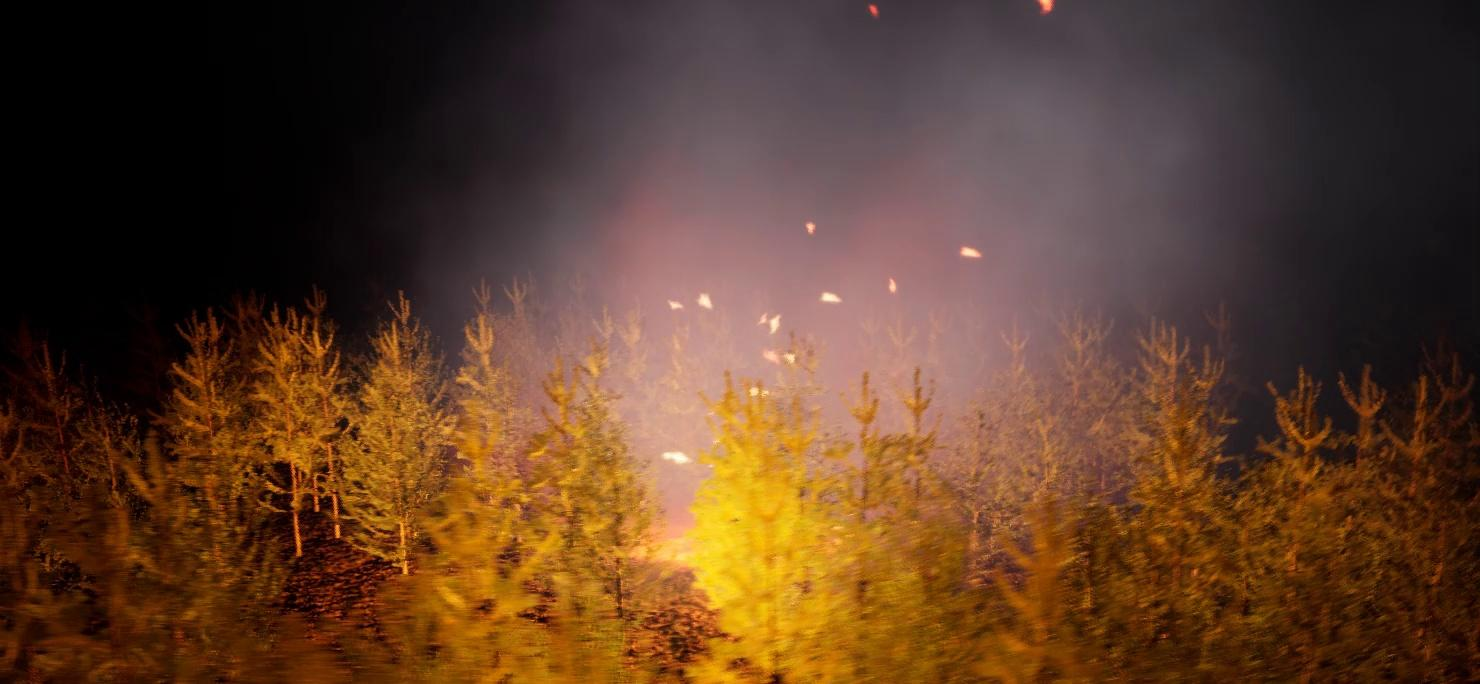fire: (583, 226, 1000, 673)
smoke: (425, 0, 1331, 494)
